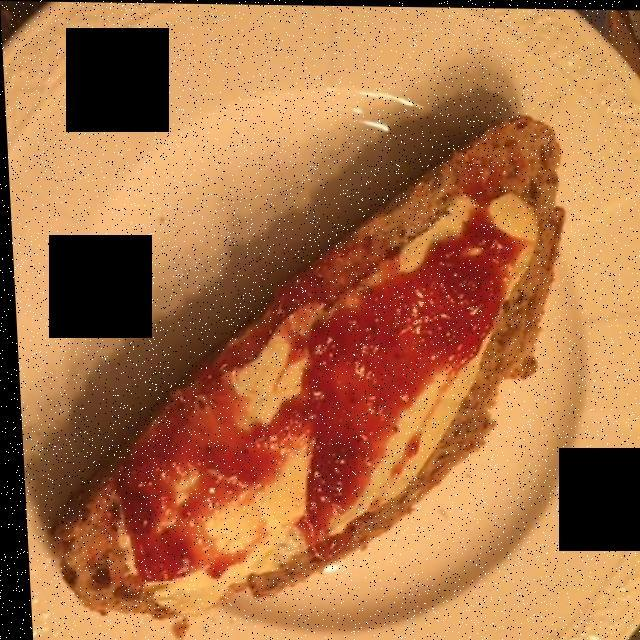bread: (60, 118, 564, 610)
jam: (115, 205, 513, 587)
